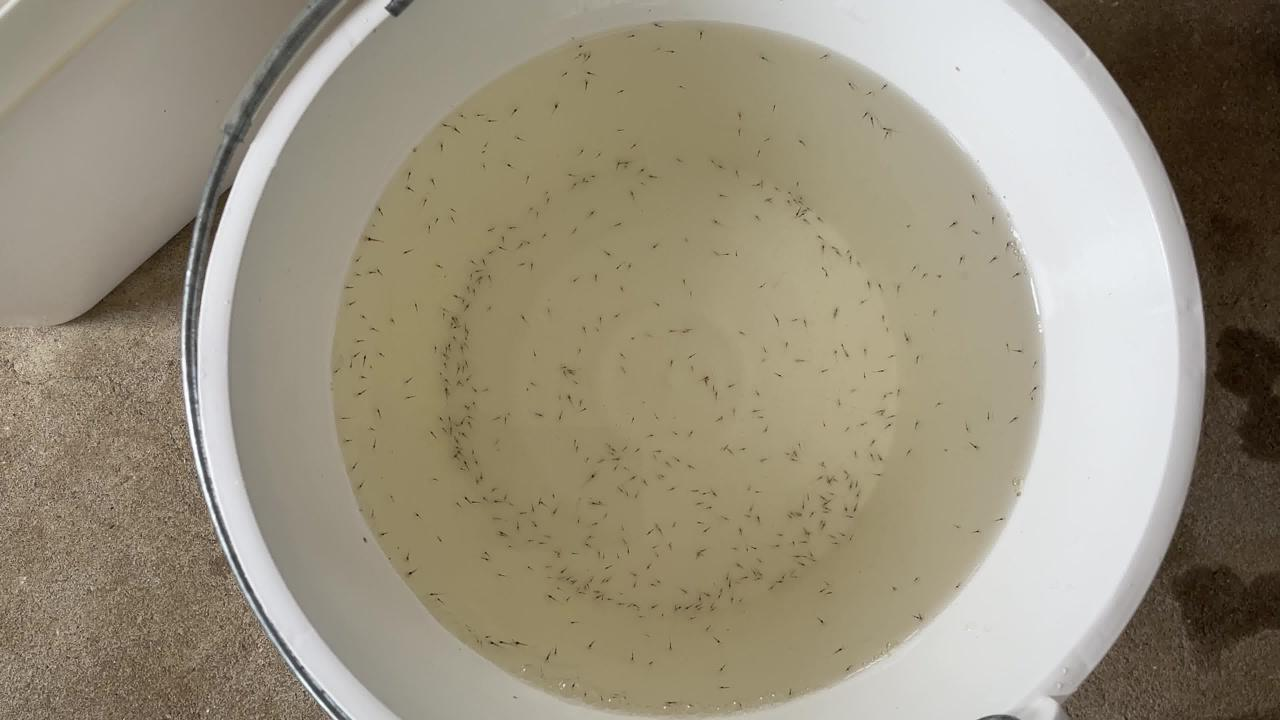shrimp: (891, 285, 904, 293), (829, 351, 842, 359), (710, 218, 723, 226), (456, 113, 469, 121), (578, 179, 591, 187), (349, 257, 362, 265), (539, 196, 552, 204), (614, 284, 627, 292), (484, 274, 497, 282), (460, 285, 473, 293), (430, 262, 443, 270), (448, 334, 461, 342), (426, 428, 439, 436), (515, 312, 528, 320), (477, 140, 490, 148), (460, 495, 473, 503), (451, 501, 464, 509), (479, 495, 492, 503), (496, 639, 509, 647), (566, 683, 579, 691), (686, 617, 699, 625), (723, 584, 736, 592), (750, 489, 763, 497), (789, 450, 802, 458), (700, 373, 713, 381), (687, 351, 700, 359), (680, 323, 693, 331), (662, 329, 675, 337), (527, 351, 540, 359), (569, 378, 582, 386), (579, 406, 592, 414), (543, 595, 556, 603), (602, 595, 615, 603), (589, 595, 602, 603), (573, 594, 586, 602), (594, 578, 607, 586), (599, 578, 612, 586), (600, 567, 613, 575), (651, 578, 664, 586), (650, 523, 663, 531), (697, 528, 710, 536), (690, 500, 703, 508), (666, 456, 679, 464), (683, 429, 696, 437), (607, 445, 620, 453), (590, 550, 603, 558), (488, 573, 501, 581), (530, 522, 543, 530), (533, 500, 546, 508), (498, 495, 511, 503), (502, 501, 515, 509), (504, 545, 517, 553), (1001, 344, 1013, 352), (1012, 350, 1024, 358), (1007, 270, 1019, 278), (987, 258, 999, 266), (956, 259, 968, 267), (929, 274, 941, 282), (919, 273, 931, 281), (905, 263, 917, 271), (797, 215, 809, 223), (791, 212, 803, 220), (780, 201, 792, 209), (785, 198, 797, 206), (796, 201, 808, 209), (796, 196, 808, 204), (813, 217, 825, 225), (801, 208, 813, 216), (766, 198, 778, 206), (773, 188, 785, 196), (881, 123, 893, 131), (880, 133, 892, 141), (865, 115, 877, 123), (859, 110, 871, 118), (863, 92, 875, 100), (876, 86, 888, 94), (946, 218, 958, 226), (972, 232, 984, 240), (985, 215, 997, 223), (965, 195, 977, 203), (840, 84, 852, 92), (817, 56, 829, 64), (755, 55, 767, 63), (765, 102, 777, 110), (796, 137, 808, 145), (791, 181, 803, 189), (762, 132, 774, 140), (754, 151, 766, 159), (753, 181, 765, 189), (744, 180, 756, 188), (732, 174, 744, 182), (730, 127, 742, 135), (731, 115, 743, 123), (716, 166, 728, 174), (709, 162, 721, 170), (673, 87, 685, 95), (665, 49, 677, 57), (693, 31, 705, 39), (649, 48, 661, 56), (622, 33, 634, 41), (582, 56, 594, 64), (574, 52, 586, 60), (578, 53, 590, 61), (561, 70, 573, 78), (581, 71, 593, 79), (580, 81, 592, 89), (613, 90, 625, 98), (761, 585, 773, 593), (768, 582, 780, 590), (778, 572, 790, 580), (785, 567, 797, 575), (784, 578, 796, 586), (794, 563, 806, 571), (787, 553, 799, 561), (800, 560, 812, 568), (805, 552, 817, 560), (830, 541, 842, 549), (843, 535, 855, 543), (843, 514, 855, 522), (851, 504, 863, 512), (851, 492, 863, 500), (850, 478, 862, 486), (844, 488, 856, 496), (838, 504, 850, 512), (824, 533, 836, 541), (870, 475, 882, 483), (864, 455, 876, 463), (875, 453, 887, 461), (867, 439, 879, 447), (880, 427, 892, 435), (887, 410, 899, 418), (890, 391, 902, 399), (869, 410, 881, 418), (877, 412, 889, 420), (858, 421, 870, 429), (841, 428, 853, 436), (850, 453, 862, 461), (839, 468, 851, 476), (840, 474, 852, 482), (823, 472, 835, 480), (820, 474, 832, 482), (811, 495, 823, 503), (822, 490, 834, 498), (816, 499, 828, 507), (824, 506, 836, 514), (816, 507, 828, 515), (812, 517, 824, 525), (816, 521, 828, 529), (806, 511, 818, 519), (798, 500, 810, 508), (793, 511, 805, 519), (785, 510, 797, 518), (782, 513, 794, 521), (800, 526, 812, 534), (797, 538, 809, 546), (786, 537, 798, 545), (769, 542, 781, 550), (773, 535, 785, 543), (813, 585, 825, 593), (817, 580, 829, 588), (820, 590, 832, 598), (811, 617, 823, 625), (828, 646, 840, 654), (887, 587, 899, 595), (912, 614, 924, 622), (908, 574, 920, 582), (947, 585, 959, 593), (968, 444, 980, 452), (984, 414, 996, 422), (1010, 417, 1022, 425), (1028, 388, 1040, 396), (1026, 361, 1038, 369), (995, 516, 1007, 524), (965, 529, 977, 537), (946, 522, 958, 530), (941, 451, 953, 459), (960, 427, 972, 435), (930, 399, 942, 407), (910, 422, 922, 430), (901, 445, 913, 453), (908, 355, 920, 363), (927, 311, 939, 319), (901, 336, 913, 344), (887, 350, 899, 358), (872, 367, 884, 375), (857, 351, 869, 359), (857, 374, 869, 382), (813, 232, 825, 240), (800, 318, 812, 326), (428, 213, 440, 221), (340, 284, 352, 292), (478, 257, 490, 265), (473, 274, 485, 282), (439, 345, 451, 353), (367, 445, 379, 453), (794, 440, 806, 448), (727, 451, 739, 459), (711, 390, 723, 398), (617, 367, 629, 375), (589, 589, 601, 597), (551, 573, 563, 581), (711, 490, 723, 498), (644, 434, 656, 442), (815, 246, 828, 253), (825, 244, 838, 251), (829, 250, 842, 257), (841, 248, 854, 255), (845, 256, 858, 263), (851, 259, 864, 266), (862, 280, 875, 287), (872, 281, 885, 288), (856, 299, 869, 306), (835, 342, 848, 349), (831, 308, 844, 315), (819, 269, 832, 276), (789, 317, 802, 324), (771, 315, 784, 322), (781, 341, 794, 348), (790, 356, 803, 363), (839, 351, 852, 358), (771, 370, 784, 377), (758, 347, 771, 354), (733, 329, 746, 336), (846, 386, 859, 393), (879, 394, 892, 401), (834, 398, 847, 405), (757, 281, 770, 288), (750, 214, 763, 221), (730, 250, 743, 257), (719, 251, 732, 258), (710, 250, 723, 257), (677, 278, 690, 285), (684, 290, 697, 297), (678, 237, 691, 244), (648, 244, 661, 251), (636, 167, 649, 174), (634, 181, 647, 188), (625, 190, 638, 197), (625, 140, 638, 147), (618, 161, 631, 168), (614, 158, 627, 165), (615, 128, 628, 135), (649, 22, 662, 29), (548, 103, 561, 110), (487, 119, 500, 126), (437, 122, 450, 129), (450, 126, 463, 133), (434, 144, 447, 151), (402, 170, 415, 177), (425, 177, 438, 184), (510, 134, 523, 141), (502, 162, 515, 169), (575, 148, 588, 155), (592, 151, 605, 158), (586, 174, 599, 181), (564, 171, 577, 178), (567, 182, 580, 189), (448, 217, 461, 224), (402, 185, 415, 192), (362, 237, 375, 244), (399, 251, 412, 258), (375, 272, 388, 279), (364, 269, 377, 276), (344, 300, 357, 307), (531, 210, 544, 217), (585, 208, 598, 215), (616, 222, 629, 229), (567, 227, 580, 234), (603, 251, 616, 258), (537, 233, 550, 240), (523, 262, 536, 269), (514, 261, 527, 268), (513, 243, 526, 250), (496, 234, 509, 241), (495, 245, 508, 252), (485, 249, 498, 256), (463, 257, 476, 264), (471, 267, 484, 274), (469, 288, 482, 295), (462, 271, 475, 278), (481, 303, 494, 310), (462, 306, 475, 313), (449, 291, 462, 298), (411, 301, 424, 308), (423, 227, 436, 234), (436, 312, 449, 319), (437, 305, 450, 312), (452, 315, 465, 322), (447, 315, 460, 322), (459, 324, 472, 331), (459, 341, 472, 348), (444, 343, 457, 350), (430, 345, 443, 352), (437, 361, 450, 368), (434, 373, 447, 380), (460, 360, 473, 367), (457, 367, 470, 374), (450, 365, 463, 372), (452, 380, 465, 387), (433, 415, 446, 422), (434, 428, 447, 435), (442, 414, 455, 421), (444, 427, 457, 434), (464, 423, 477, 430), (454, 419, 467, 426), (458, 431, 471, 438), (449, 437, 462, 444), (452, 449, 465, 456), (447, 454, 460, 461), (457, 461, 470, 468), (470, 458, 483, 465), (471, 479, 484, 486), (499, 417, 512, 424), (491, 415, 504, 422), (543, 308, 556, 315), (521, 174, 534, 181), (473, 164, 486, 171), (476, 150, 489, 157), (386, 317, 399, 324), (365, 325, 378, 332), (350, 339, 363, 346), (349, 352, 362, 359), (327, 369, 340, 376), (357, 353, 370, 360), (354, 374, 367, 381), (352, 392, 365, 399), (399, 378, 412, 385), (400, 394, 413, 401), (370, 408, 383, 415), (336, 415, 349, 422), (339, 438, 352, 445), (353, 486, 366, 493), (376, 532, 389, 539), (402, 558, 415, 565), (402, 571, 415, 578), (435, 537, 448, 544), (484, 487, 497, 494), (491, 530, 504, 537), (497, 533, 510, 540), (363, 425, 376, 432), (422, 591, 435, 598), (432, 598, 445, 605), (542, 655, 555, 662), (540, 658, 553, 665), (578, 694, 591, 701), (662, 702, 675, 709), (841, 666, 854, 673), (711, 686, 724, 693), (662, 646, 675, 653), (703, 624, 716, 631), (723, 596, 736, 603), (709, 608, 722, 615), (704, 605, 717, 612), (693, 609, 706, 616), (688, 603, 701, 610), (680, 606, 693, 613), (671, 606, 684, 613), (703, 594, 716, 601), (693, 597, 706, 604), (674, 588, 687, 595), (712, 591, 725, 598), (718, 575, 731, 582), (737, 578, 750, 585), (731, 560, 744, 567), (757, 570, 770, 577), (748, 568, 761, 575), (752, 577, 765, 584), (752, 558, 765, 565), (748, 543, 761, 550), (741, 548, 754, 555), (730, 546, 743, 553), (733, 529, 746, 536), (751, 518, 764, 525), (742, 516, 755, 523), (745, 503, 758, 510), (738, 486, 751, 493), (814, 461, 827, 468), (817, 422, 830, 429), (786, 456, 799, 463), (756, 459, 769, 466), (717, 446, 730, 453), (760, 425, 773, 432), (756, 414, 769, 421), (747, 410, 760, 417), (752, 391, 765, 398), (715, 415, 728, 422), (728, 405, 741, 412), (725, 383, 738, 390), (700, 377, 713, 384), (685, 365, 698, 372), (665, 359, 678, 366), (677, 329, 690, 336), (652, 300, 665, 307), (640, 333, 653, 340), (627, 336, 640, 343), (614, 353, 627, 360), (593, 315, 606, 322), (578, 324, 591, 331), (575, 347, 588, 354), (556, 361, 569, 368), (566, 369, 579, 376), (527, 381, 540, 388), (562, 393, 575, 400), (553, 415, 566, 422), (532, 412, 545, 419), (574, 399, 587, 406), (566, 619, 579, 626), (646, 605, 659, 612), (628, 604, 641, 611), (612, 602, 625, 609), (599, 597, 612, 604), (555, 569, 568, 576), (567, 580, 580, 587), (579, 583, 592, 590), (623, 572, 636, 579), (645, 583, 658, 590), (640, 565, 653, 572), (648, 553, 661, 560), (640, 532, 653, 539), (666, 544, 679, 551), (668, 521, 681, 528), (695, 548, 708, 555), (692, 551, 705, 558), (690, 521, 703, 528), (720, 514, 733, 521), (703, 504, 716, 511), (701, 489, 714, 496), (664, 487, 677, 494), (684, 464, 697, 471), (667, 432, 680, 439), (625, 416, 638, 423), (650, 447, 663, 454), (640, 480, 653, 487), (626, 475, 639, 482), (632, 494, 645, 501), (621, 492, 634, 499), (615, 487, 628, 494), (586, 472, 599, 479), (632, 446, 645, 453), (620, 444, 633, 451), (607, 452, 620, 459), (610, 457, 623, 464), (590, 460, 603, 467), (608, 466, 621, 473), (619, 465, 632, 472), (569, 438, 582, 445), (591, 500, 604, 507), (588, 521, 601, 528), (615, 525, 628, 532), (623, 550, 636, 557), (608, 552, 621, 559), (597, 553, 610, 560), (582, 544, 595, 551), (582, 532, 595, 539), (564, 553, 577, 560), (554, 553, 567, 560), (522, 538, 535, 545), (531, 541, 544, 548), (543, 533, 556, 540), (522, 564, 535, 571), (473, 557, 486, 564), (479, 549, 492, 556), (487, 515, 500, 522), (514, 510, 527, 517), (510, 527, 523, 534), (546, 509, 559, 516), (523, 508, 536, 515), (545, 493, 558, 500), (539, 564, 552, 571), (651, 415, 664, 422), (877, 314, 889, 321), (883, 329, 895, 336), (816, 367, 828, 374), (716, 191, 728, 198), (672, 156, 684, 163), (645, 173, 657, 180), (506, 109, 518, 116), (473, 112, 485, 119), (445, 206, 457, 213), (418, 196, 430, 203), (373, 207, 385, 214), (484, 226, 496, 233), (506, 225, 518, 232), (611, 264, 623, 271), (589, 275, 601, 282), (567, 277, 579, 284), (622, 261, 634, 268), (473, 277, 485, 284), (445, 322, 457, 329), (462, 332, 474, 339), (456, 345, 468, 352), (440, 390, 452, 397), (467, 385, 479, 392), (479, 390, 491, 397), (462, 376, 474, 383), (462, 414, 474, 421), (478, 475, 490, 482), (357, 314, 369, 321), (346, 366, 358, 373), (373, 351, 385, 358), (345, 465, 357, 472), (367, 514, 379, 521), (412, 515, 424, 522), (428, 474, 440, 481), (384, 495, 396, 502), (490, 498, 502, 505), (484, 640, 496, 647), (511, 641, 523, 648), (550, 653, 562, 660), (583, 644, 595, 651), (628, 659, 640, 666), (783, 689, 795, 696), (717, 668, 729, 675), (711, 639, 723, 646), (739, 446, 751, 453), (611, 312, 623, 319), (556, 370, 568, 377), (562, 600, 574, 607), (622, 603, 634, 610), (561, 575, 573, 582), (584, 577, 596, 584), (628, 585, 640, 592), (645, 546, 657, 553), (689, 489, 701, 496), (572, 450, 584, 457), (600, 514, 612, 521), (617, 539, 629, 546), (489, 437, 501, 444)
